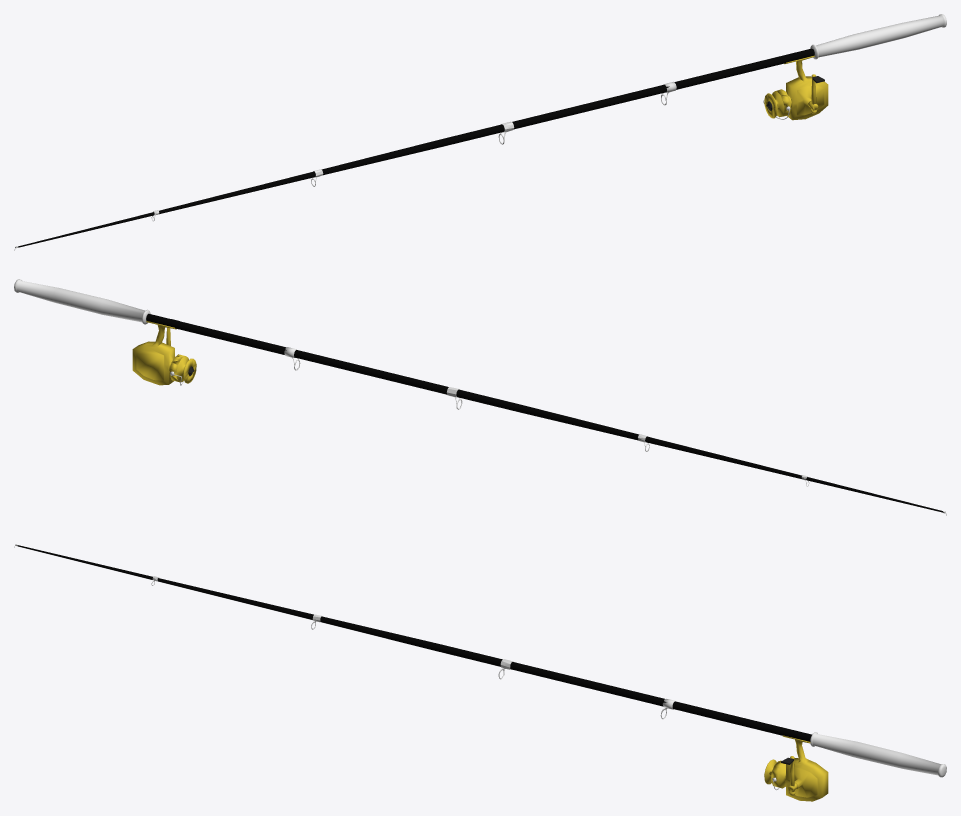
Rendered from rod.fbx.
The picture shows the model from 3 angles, top to bottom: view 1: azimuth 30°, elevation 25°; view 2: azimuth 150°, elevation 25°; view 3: azimuth 330°, elevation 25°; orthographic projection.
Parts seen in each view (by area): view 1: caña, carrete; view 2: caña, carrete; view 3: caña, carrete.
Part boxes in pixels (x1,y1,x2,y2): caña: [14, 14, 946, 250]; carrete: [763, 55, 828, 120]; caña: [14, 279, 946, 515]; carrete: [132, 319, 196, 385]; caña: [14, 544, 946, 777]; carrete: [764, 735, 828, 801].
Bounding box in the file's own units: 250 × 17.77 × 11.96.
